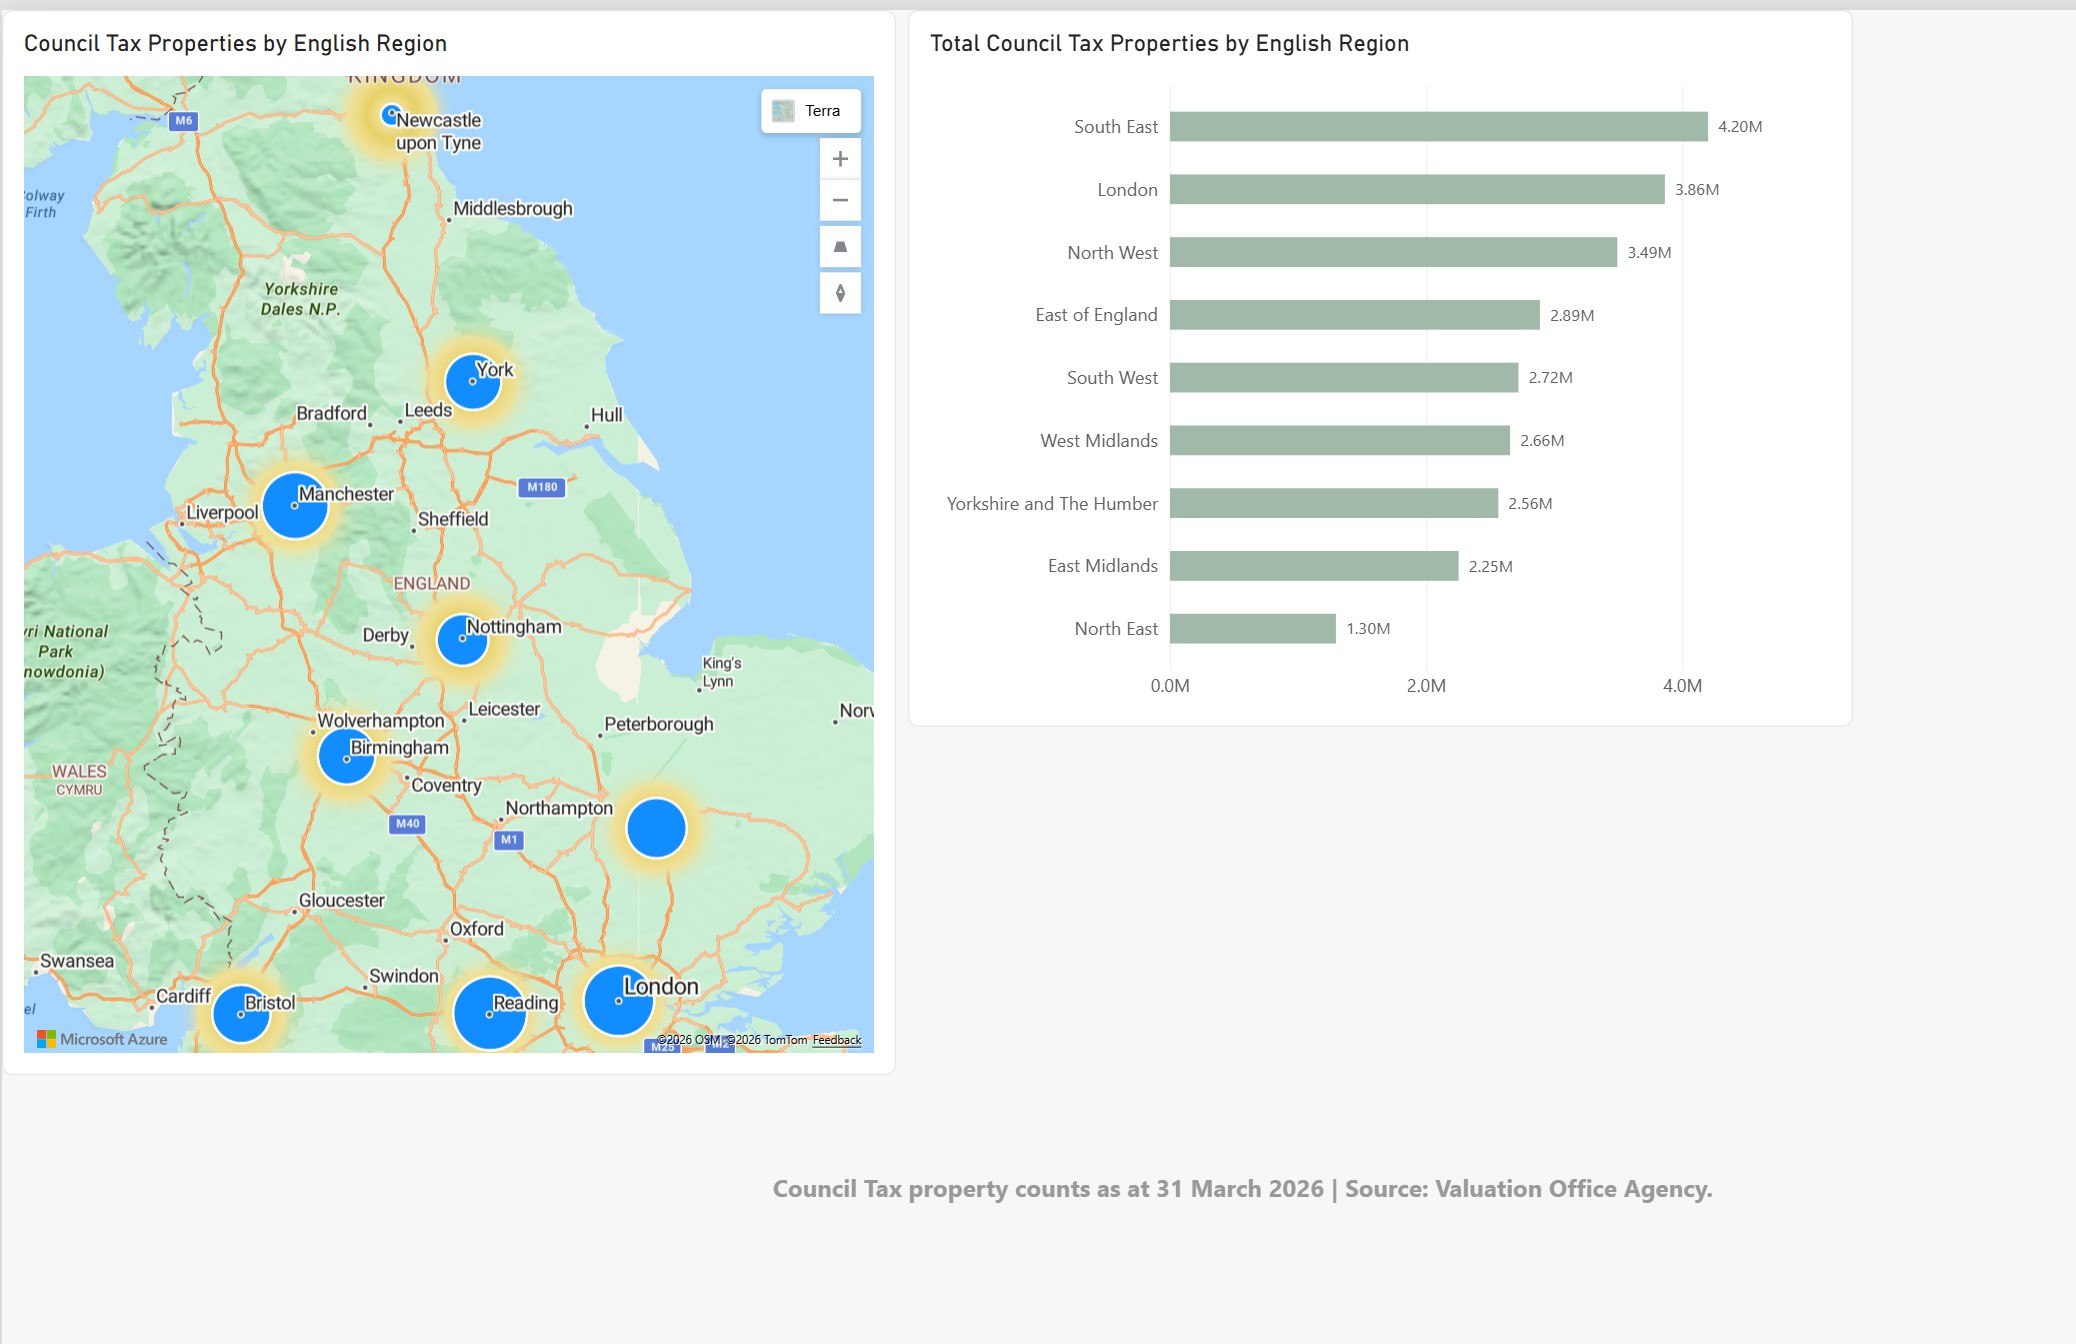

This screenshot's page, from the dashboard's own definition file:
{"tool":"powerbi","page":{"name":"Total Council Tax Properties by English Region","canvas":[1920,1080],"ordinal":2},"visuals":[{"type":"azureMap","title":"Council Tax Properties by English Region","fields":{"Category":["vw_regional_band_mix.Region Map Location"],"Size":["vw_regional_band_mix.Regional Properties"],"X":["Min(vw_regional_band_mix.ecode)"]},"box":[0,0,693,825.6],"z":0},{"type":"barChart","title":"Total Council Tax Properties by English Region","fields":{"Category":["vw_regional_band_mix.region"],"Y":["Sum(vw_regional_band_mix.total_properties)"]},"box":[702.3,0,732.6,555.8],"z":2},{"type":"textbox","box":[51.2,825.6,1774.4,202.3],"z":3}]}

Visuals, with their boxes on the page's 1920x1080 design canvas (x1, y1, x2, y2). These are canvas units, not pixel positions in the 2076x1344 screenshot, which may show the page scaled, cropped or inside an application window:
"Council Tax Properties by English Region" azureMap: (0, 0, 693, 826)
"Total Council Tax Properties by English Region" barChart: (702, 0, 1435, 556)
textbox: (51, 826, 1826, 1028)
